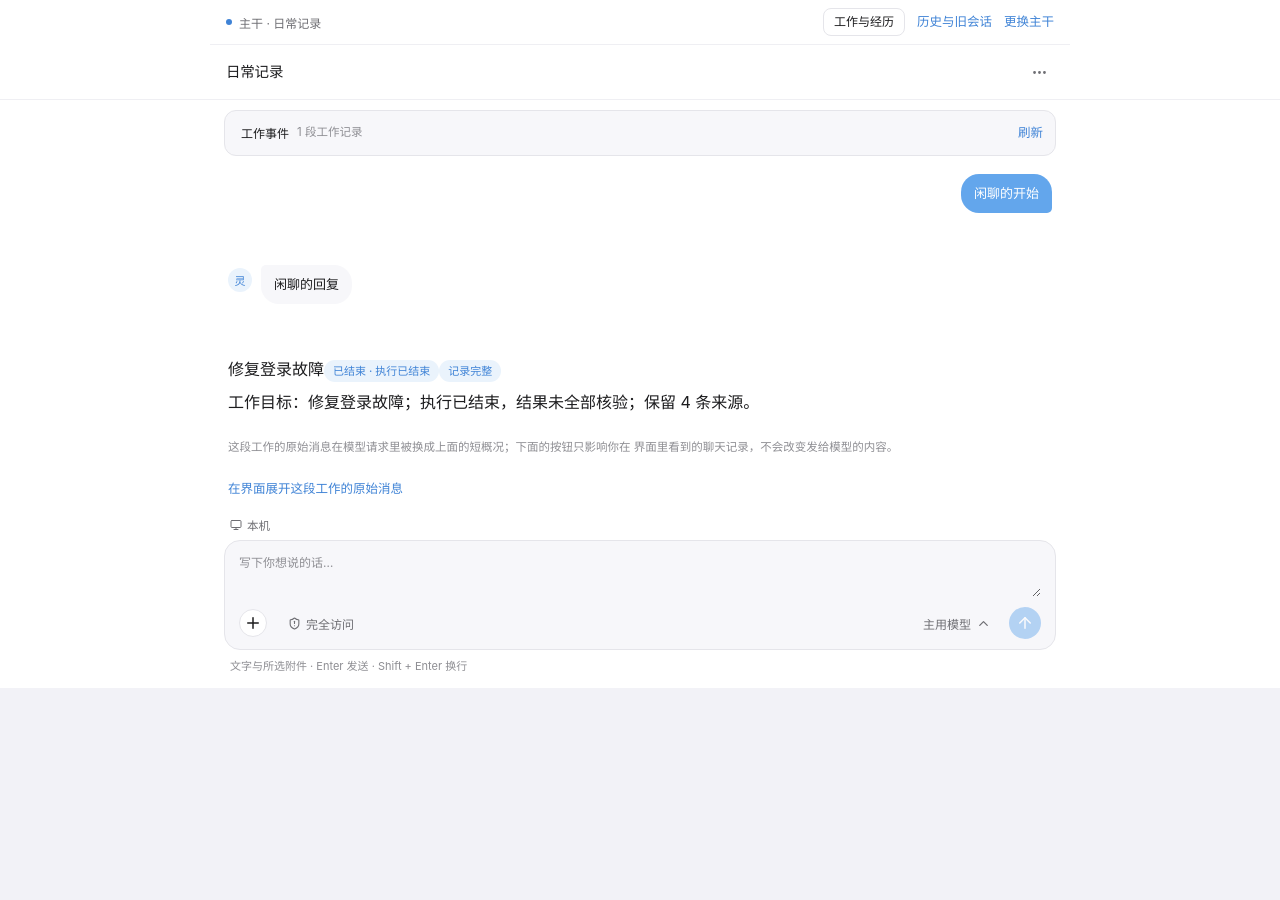
聊天区间默认收起，本地展开与再次收起不改变输入策略或发出模型请求
The width and height of the screenshot is (1280, 900).
Expected: the text "修好了" is not shown
Click the button "在界面展开这段工作的原始消息": (316, 489) x1=228 y1=475 x2=898 y2=503
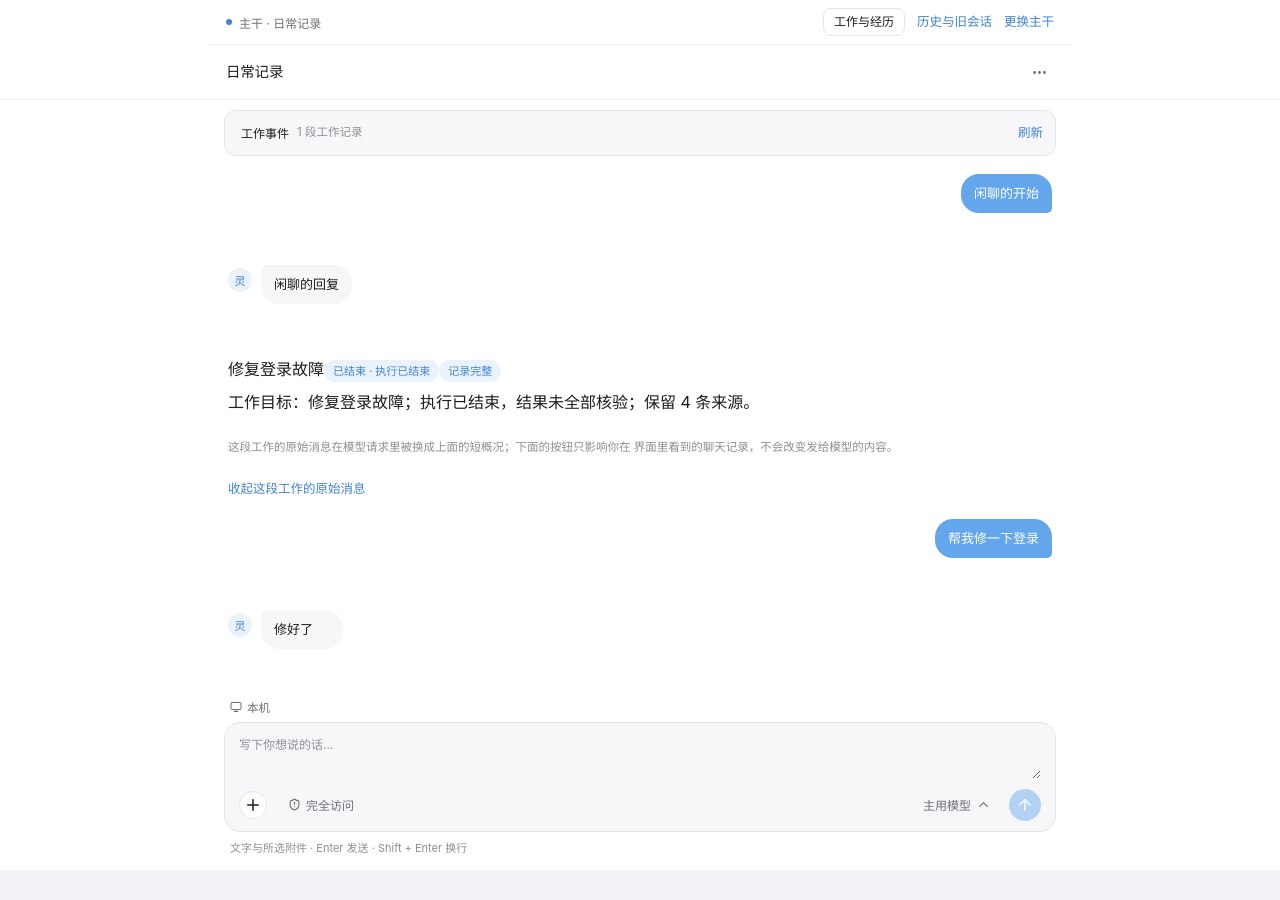
Now the text "修好了" is shown, box x1=261 y1=610 x2=343 y2=649
Now the text "帮我修一下登录" is shown, box x1=935 y1=519 x2=1052 y2=558
Click the button "收起这段工作的原始消息": (297, 489) x1=228 y1=475 x2=898 y2=503
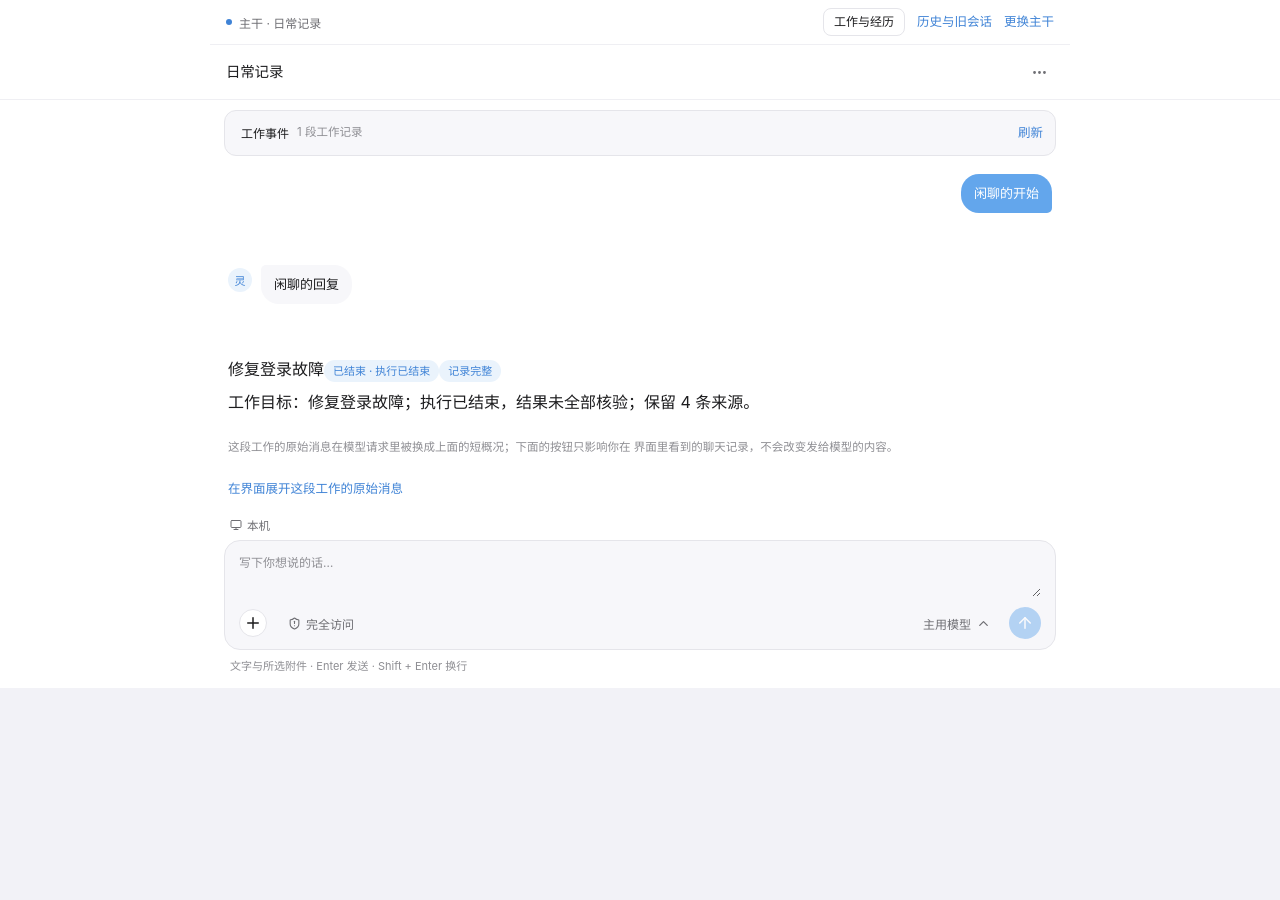
Now the text "修好了" is gone
